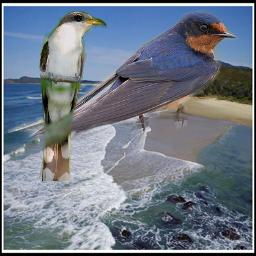Cuckoo: (38, 10, 107, 181)
Swallow: (8, 9, 238, 140)
